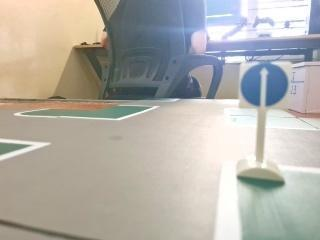straight: (236, 59, 292, 112)
